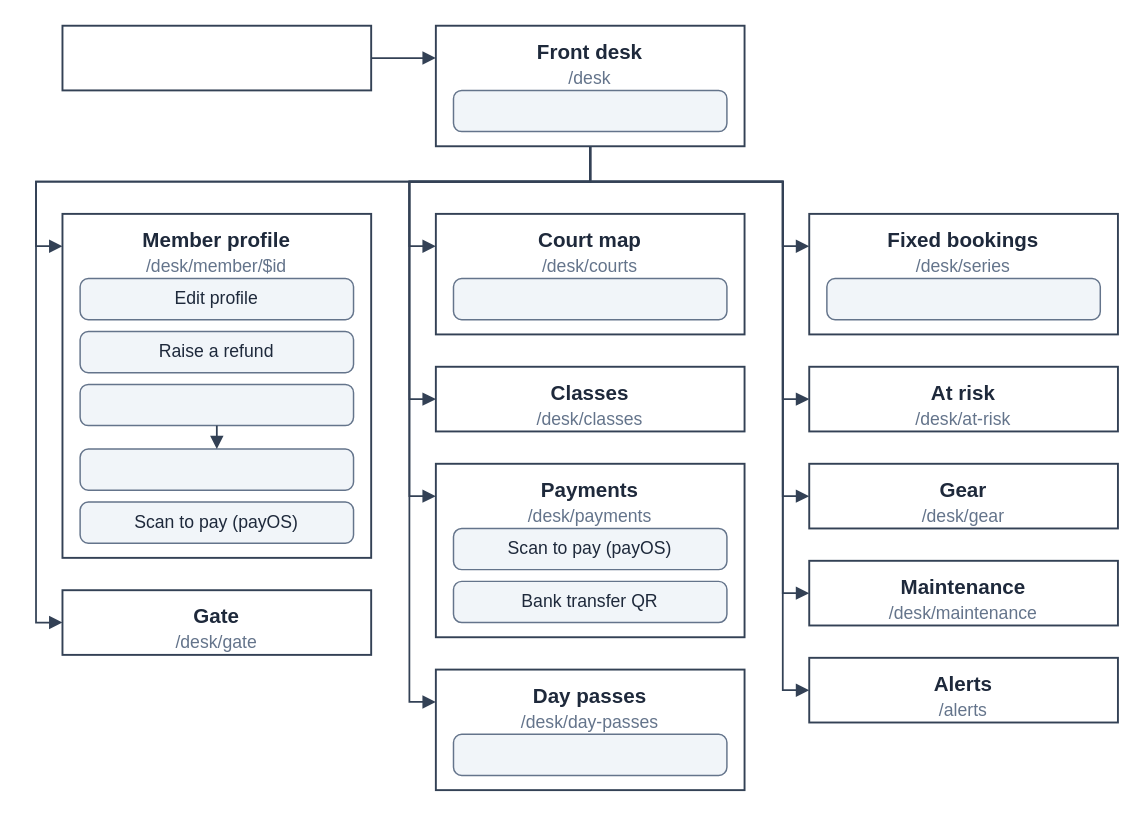
The diagram is 1145 pixels wide and 817 high, and some of its shapes have lost their labels. The centre of each missing label's shape, as x and y in pixels:
"Close shift" belongs at (589,110).
"Hand this over now" belongs at (216,469).
"Reset password" belongs at (216,404).
"Sign in /login" belongs at (216,57).
"Stop this fixed booking?" belongs at (962,298).
"Void this pass?" belongs at (589,754).
"Walk-in payment" belongs at (589,298).
